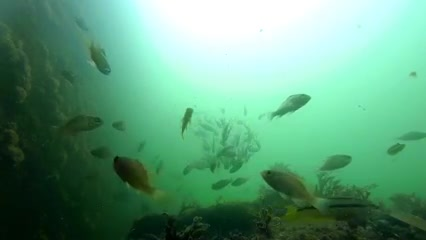bera: (284, 186, 377, 225)
smallfish: (258, 162, 342, 214), (104, 150, 173, 207), (264, 89, 319, 128), (45, 114, 112, 140), (315, 148, 363, 173), (84, 32, 109, 75)
